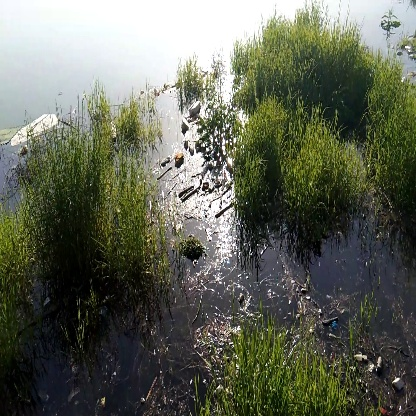plastic-bag: (7, 103, 73, 145)
